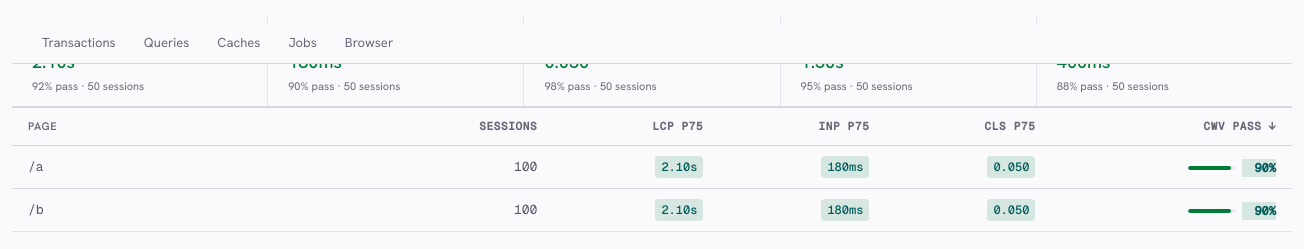
Test: BrowserView › sorting › sorts by CLS p75 column when clicked: shows sort icon
Click the button with class "col-sort" showing "CLS p75" at coordinates (968, 126), box [885,108,1051,144]
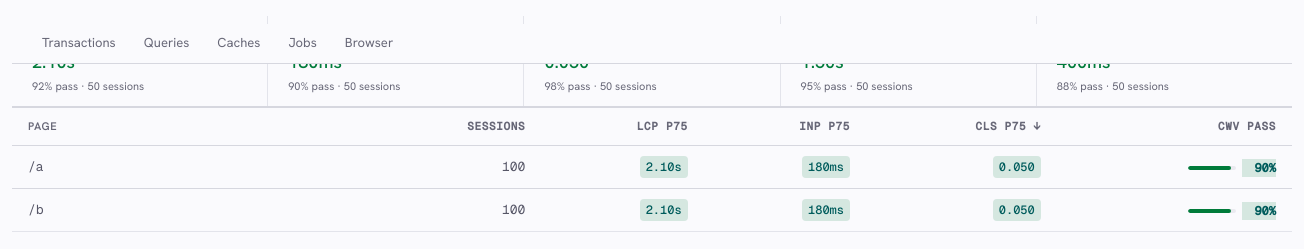
Expected: the button with class "col-sort" reads "CLS p75 ↓", [866,108,1057,144]
